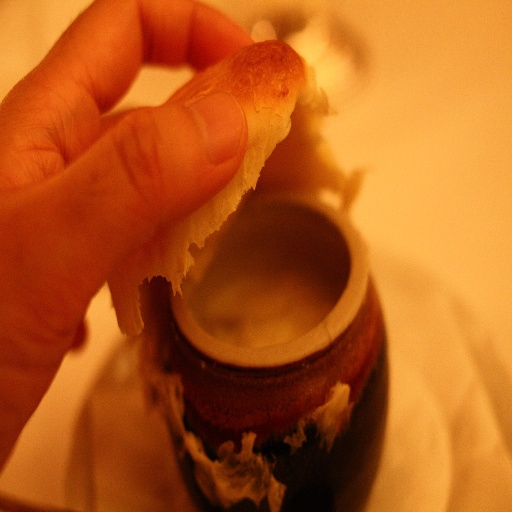hand: (14, 0, 245, 367)
